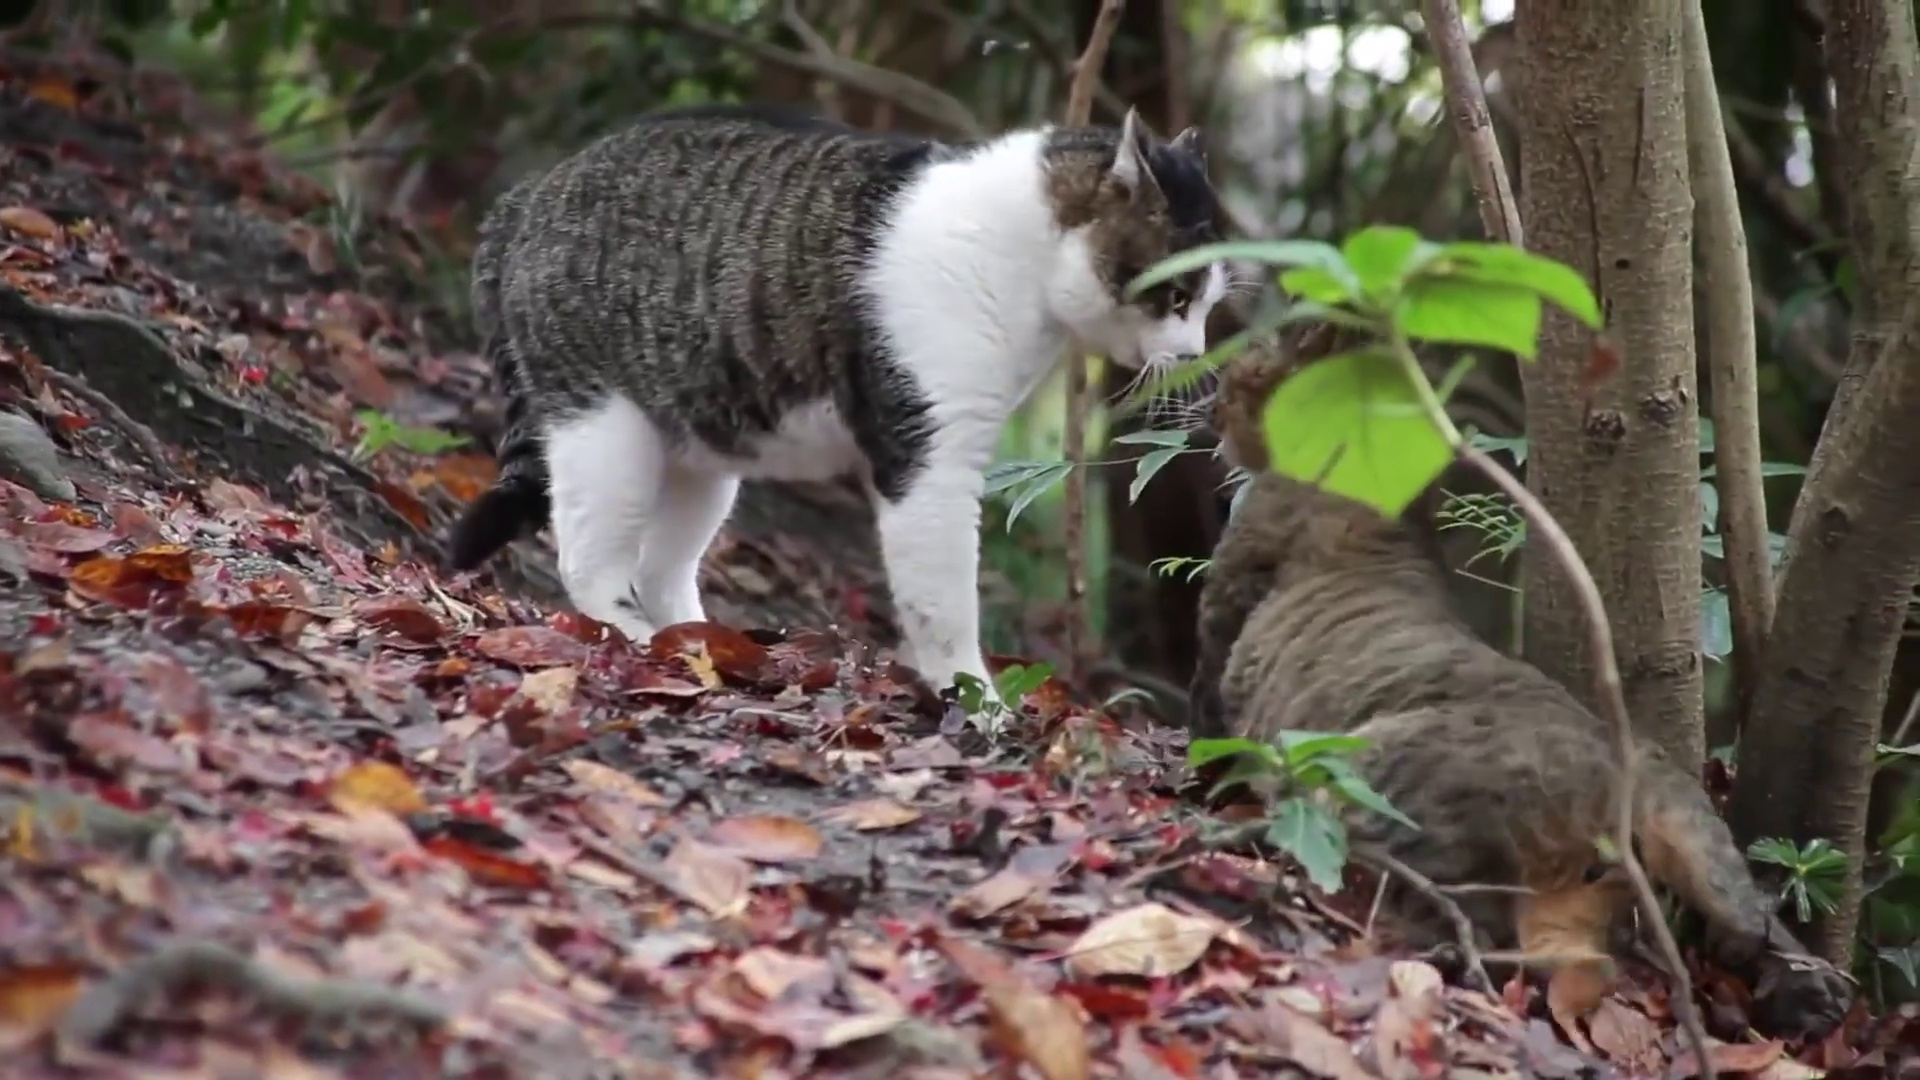black-white: (448, 103, 1225, 728)
pure black: (1196, 320, 1596, 887)
